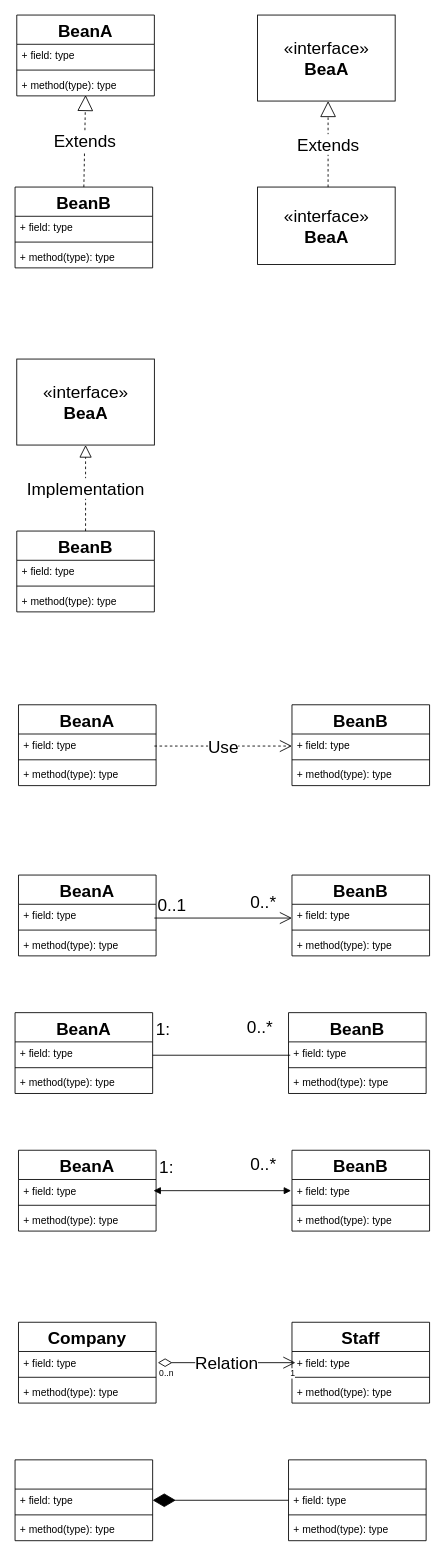
Some shapes in this 445 by 1558 pixel diagram are drawn without their labels. The shapes that lost their labels are listed below. From the top down, each one's box as (x1, y1, x2, y2) in pixels, then its label:
(14, 1459, 153, 1541): Person
(288, 1459, 426, 1541): Brain
